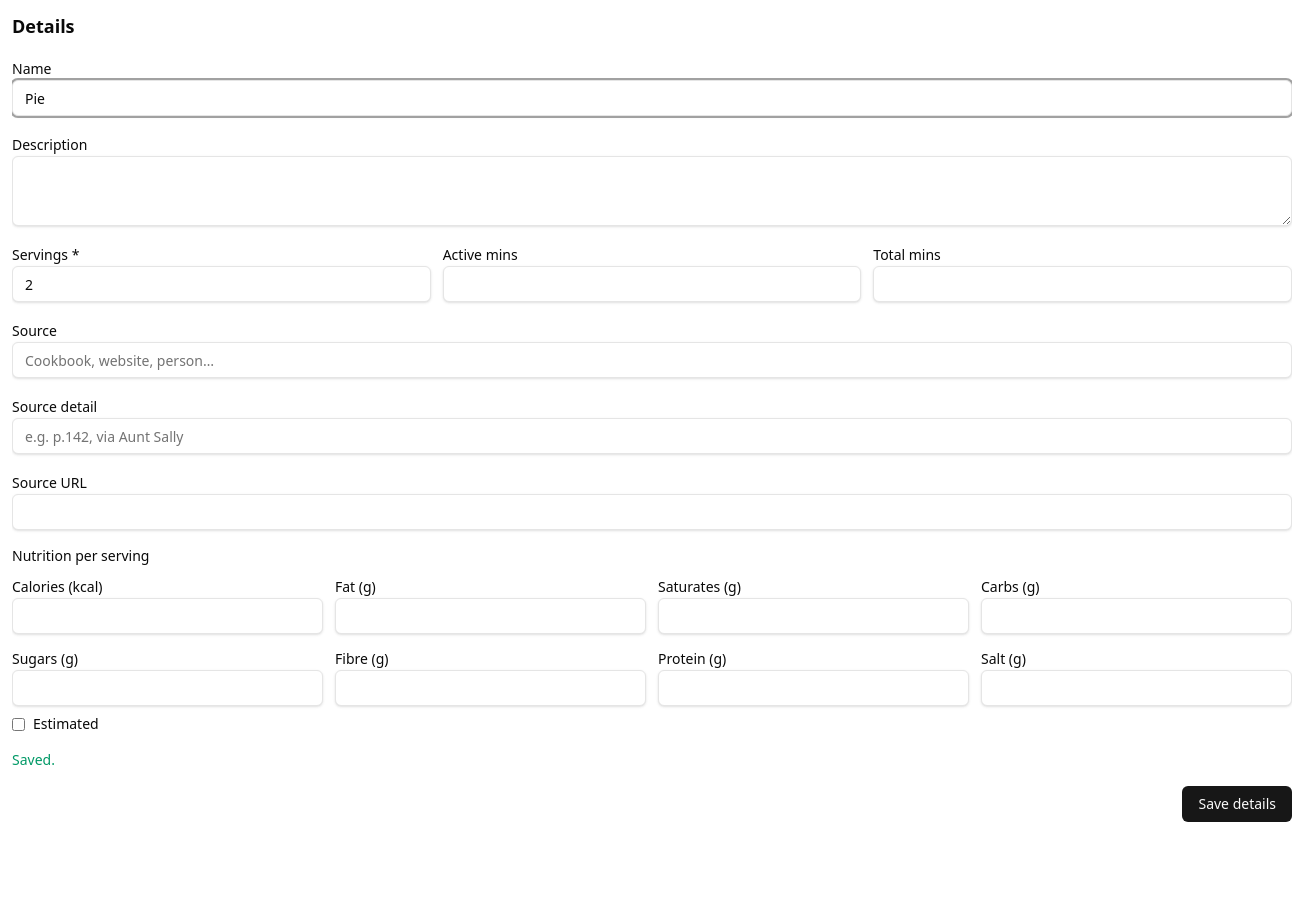
it: HeaderFields › clears the "Saved." notice when a field is edited
This screenshot has width=1304, height=912.
Check: the text "Saved." is shown, box left=12, top=750, right=55, bottom=769
// Editing a field marks the form dirty — the stale notice must go.
Step 1. Type " crust" into the field labelled "Name" → (652, 98), box left=12, top=80, right=1292, bottom=116
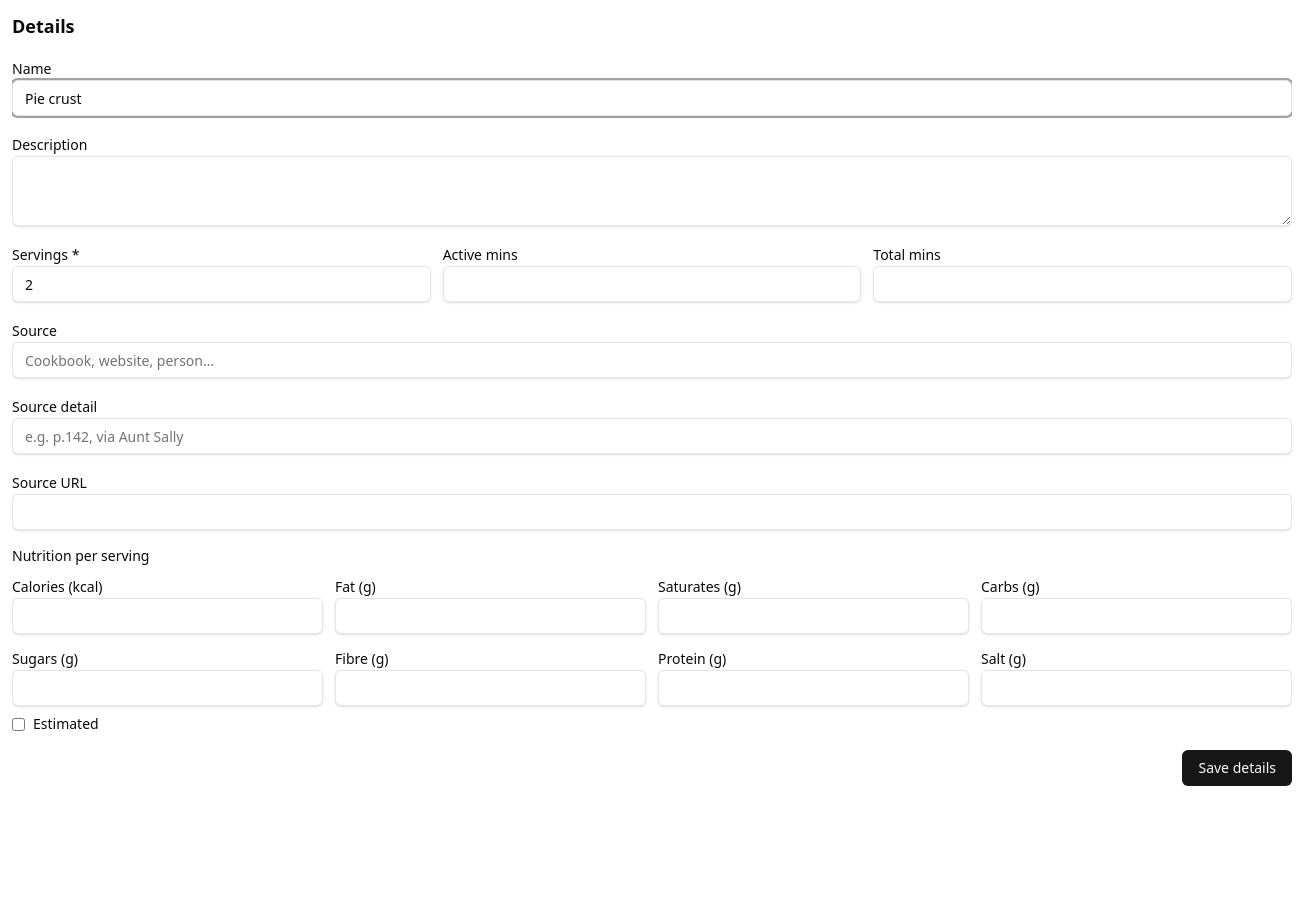
Check: the text "Saved." is gone
